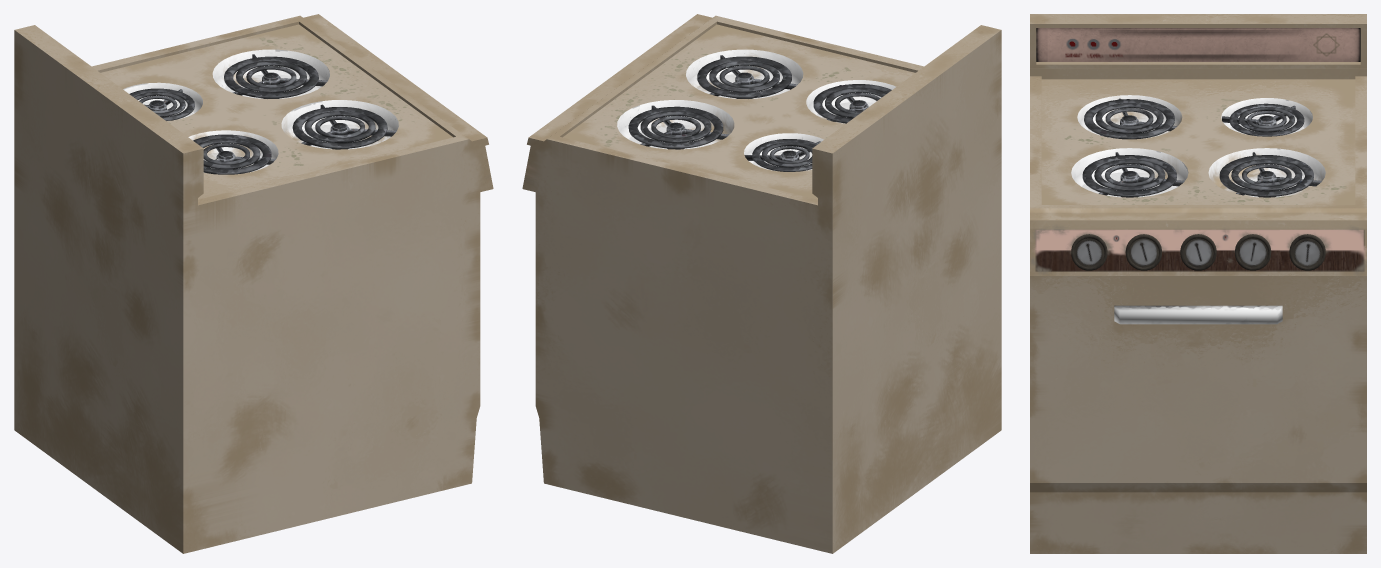
File: stove.gltf
3 views of the same model, side by side, from view 1: azimuth 30°, elevation 25°; view 2: azimuth 150°, elevation 25°; view 3: azimuth 270°, elevation 25° (orthographic).
Parts seen in each view (by area): view 1: stove; view 2: stove; view 3: stove.
Part boxes in pixels (x1,y1,x2,y2): stove: (14,14,493,553); stove: (522,14,1001,553); stove: (1030,14,1366,553).
Bounding box in the file's own units: 2.56 × 3.11 × 2.38.
9 materials, 9 textured.
